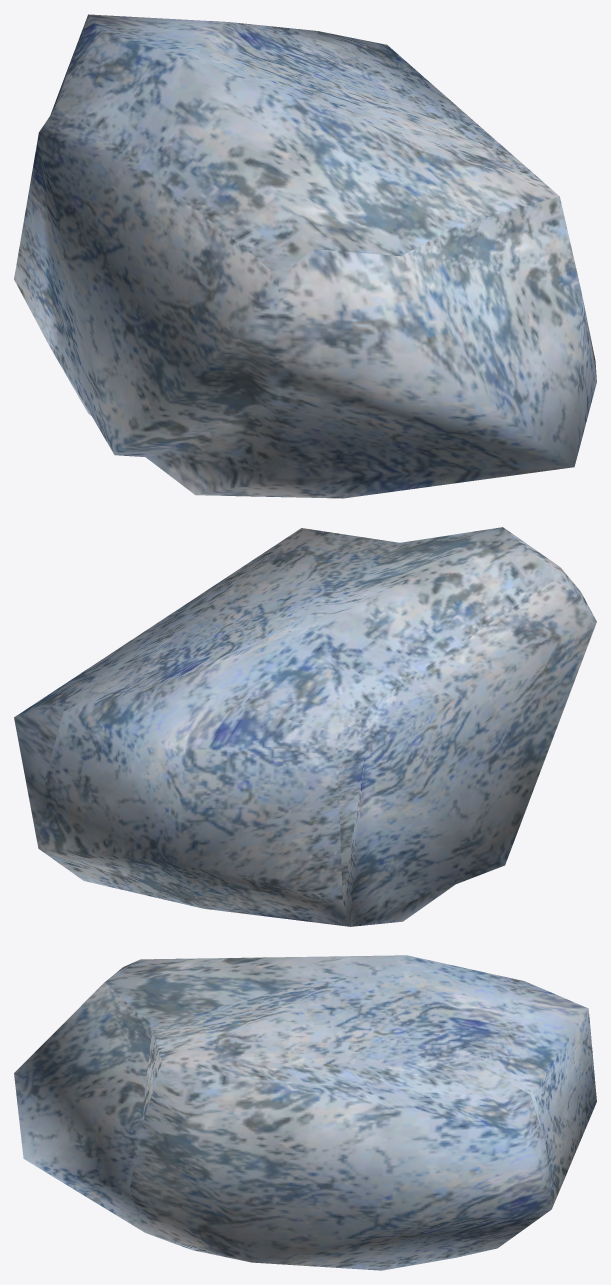
The model's file is asteroid_ice_small_s01_l2.fbx.
3 views of the same model, one above another, from view 1: azimuth 30°, elevation 25°; view 2: azimuth 150°, elevation 25°; view 3: azimuth 270°, elevation 25° (orthographic). The views are drawn at different scales.
Visible parts, largest first — view 1: mesh_node; view 2: mesh_node; view 3: mesh_node.
Part boxes in pixels (bbox=[...]): mesh_node: bbox=[14, 14, 596, 498]; mesh_node: bbox=[14, 527, 596, 926]; mesh_node: bbox=[14, 955, 596, 1270].
Size of the model in its own units: 16.54 by 11.05 by 24.59.
